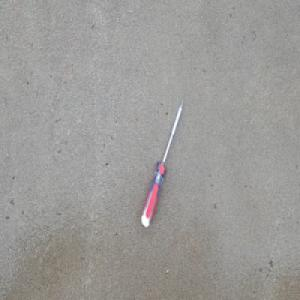Screwdriver: (140, 97, 184, 229)
